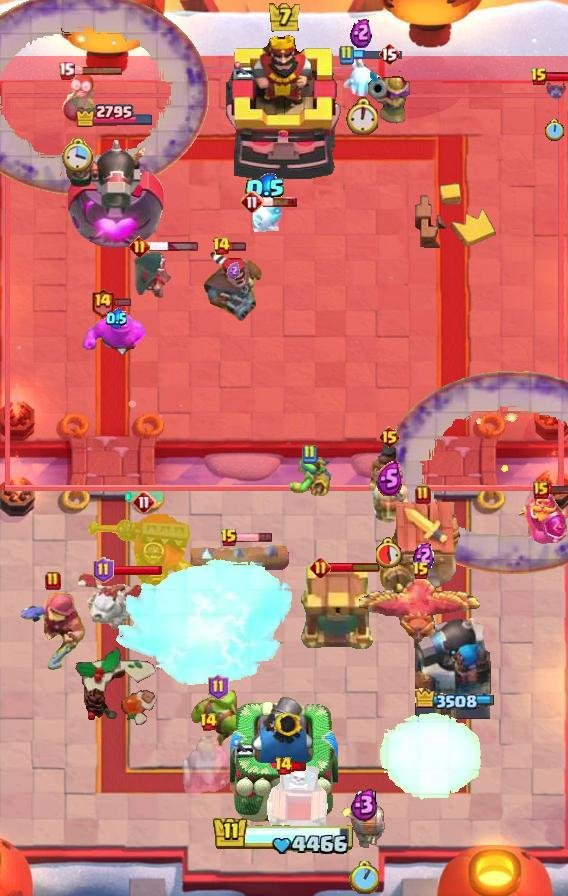barbarian-barrel: (543, 76, 567, 102)
bat: (339, 58, 383, 96), (244, 198, 286, 234)
bomb: (296, 563, 374, 651)
bomb-tower: (368, 71, 410, 139)
clock: (212, 815, 356, 857)
electro-spirit: (246, 172, 287, 203), (350, 786, 378, 821), (377, 461, 404, 495), (350, 16, 372, 47), (414, 541, 435, 571), (105, 308, 126, 329), (228, 261, 241, 278)
elite-barbarian: (366, 443, 412, 523)
elixir: (345, 97, 379, 135), (62, 137, 94, 175), (349, 862, 379, 895), (377, 536, 404, 567), (545, 118, 565, 141)
elixir-golem-mid: (264, 764, 334, 850)
emote: (327, 561, 380, 573), (352, 49, 404, 61), (72, 64, 124, 76), (111, 564, 163, 576), (147, 241, 199, 252), (262, 196, 298, 208), (235, 532, 272, 543), (546, 70, 568, 81), (548, 484, 568, 496), (228, 241, 248, 252), (291, 761, 309, 772), (113, 297, 132, 307)
fireball: (19, 589, 87, 673)
firecracker-evolution: (520, 487, 568, 545)
flying-machine: (190, 690, 246, 748)
giant-snowball: (285, 455, 333, 497)
ice-golem: (60, 73, 96, 125)
ice-spirit: (124, 490, 164, 502)
inferno-tower: (86, 514, 202, 600)
king-tower: (226, 33, 342, 181), (230, 692, 338, 826)
knight: (340, 804, 388, 848)
mega-knight: (113, 556, 297, 692), (378, 711, 484, 805)
mini-pekka: (71, 569, 159, 629)
minion: (186, 540, 289, 578)
mortar-evolution: (179, 735, 237, 803)
mother-witch: (359, 576, 483, 650)
phoenix-small: (202, 249, 264, 321)
rocket: (0, 0, 208, 196), (384, 371, 568, 575)
selected: (73, 101, 154, 126), (414, 688, 495, 712)
sparky: (380, 501, 466, 599)
tesla: (130, 249, 182, 301)
text: (89, 287, 114, 318), (240, 190, 264, 214), (132, 490, 156, 514), (379, 425, 402, 449), (94, 557, 115, 583), (208, 674, 229, 700), (378, 42, 400, 66), (130, 236, 151, 257), (309, 558, 330, 579), (212, 236, 232, 256), (274, 756, 294, 776), (198, 712, 217, 732), (530, 67, 548, 87), (220, 528, 238, 548), (412, 561, 430, 581), (57, 61, 75, 79), (338, 45, 354, 65), (301, 444, 317, 464), (415, 485, 431, 505), (45, 571, 61, 591), (533, 481, 549, 499)
tornado: (81, 306, 151, 364)
tower-bar: (60, 132, 167, 256), (410, 611, 496, 731)
